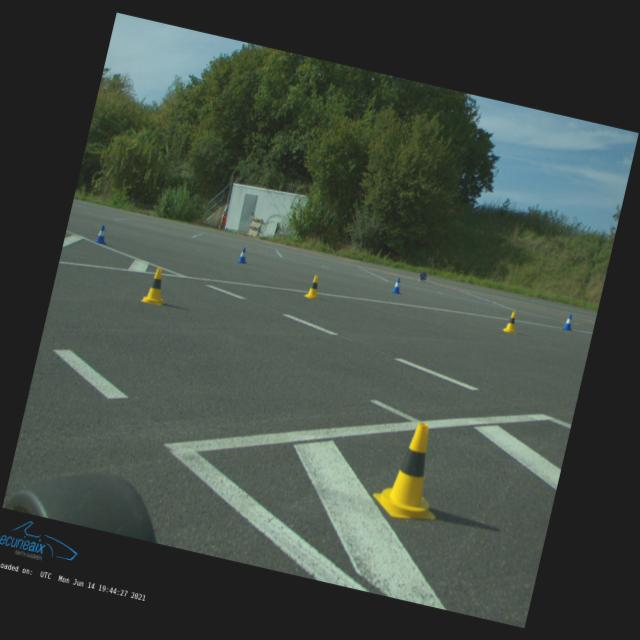blue_cone: (94, 223, 109, 244), (391, 276, 404, 294), (236, 247, 249, 264), (562, 313, 574, 331)
yellow_cone: (368, 415, 455, 526), (140, 265, 172, 306), (302, 273, 324, 300), (502, 310, 520, 334)
